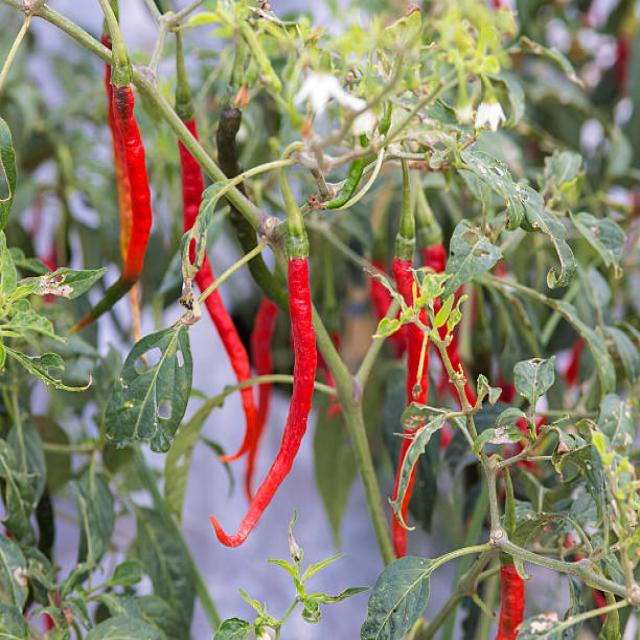Half-Ripe: (72, 0, 151, 330)
Ripe: (211, 170, 316, 546), (194, 260, 263, 464), (389, 252, 428, 404), (180, 114, 204, 231), (495, 564, 525, 638)
